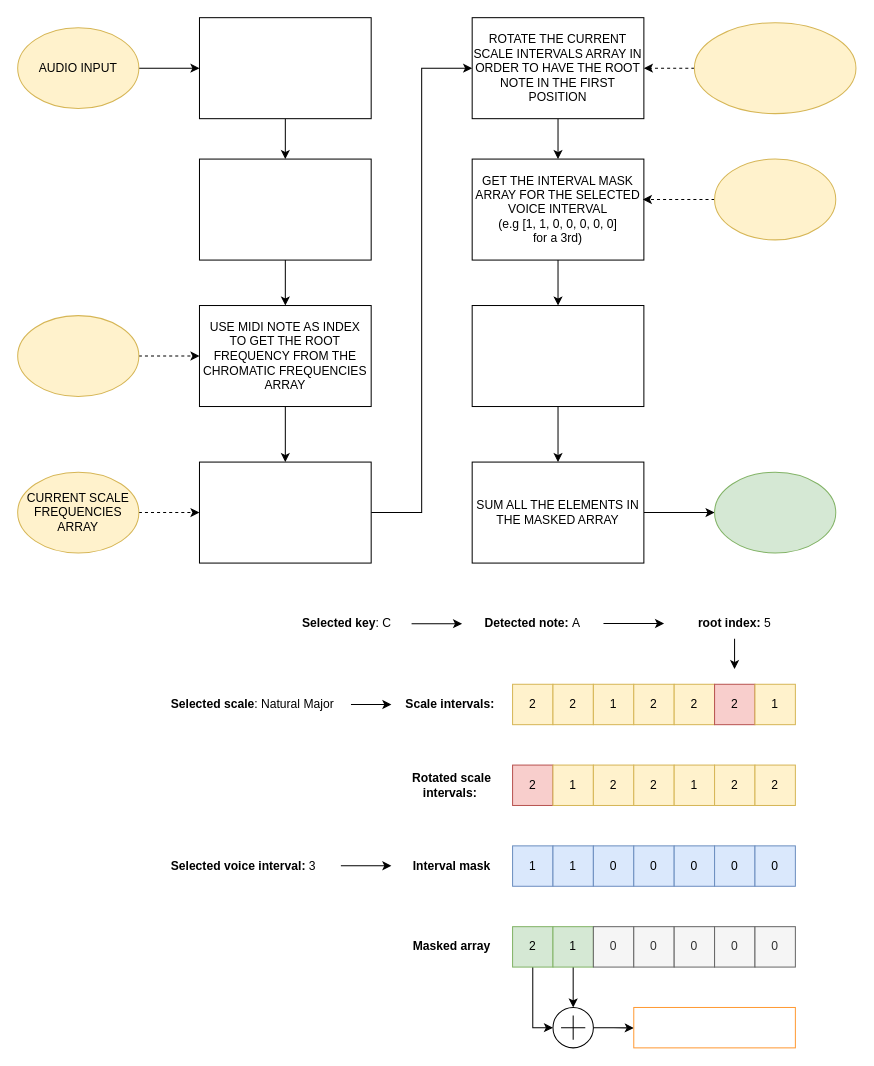
Some shapes in this 874 by 1066 pixel diagram are drawn without their labels. The shapes that lost their labels are listed below. From the top down, each one's centre as x and y in pixels, then its label:
(284,68): PITCH DETECTION
(774,68): CURRENT SCALE INTERVALS ARRAY (e.g [2, 2, 1, 2, 2, 2, 1] for Natural Major)
(284,209): NORMALIZE ROOT TO MIDI NOTE (0:C - 11:B)
(775,199): SELECTED VOICE INTERVAL
(78,355): CHROMATIC FREQUENCIES ARRAY
(557,356): APPLY THE INTERVAL MASK TO THE ROTATED SCALE INTERVALS
(284,512): FIND THE INDEX OF THE ROOT IN THE CURRENT SCALE FREQUENCIES ARRAY
(775,512): PITCH RATIO IN SEMITONES
(714,1027): Pitch Ratio: 3 semitones
